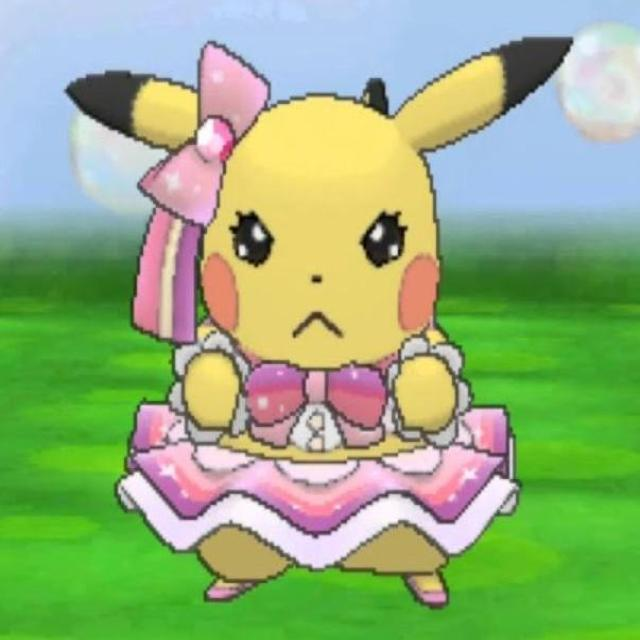pikachu: (66, 36, 575, 603)
